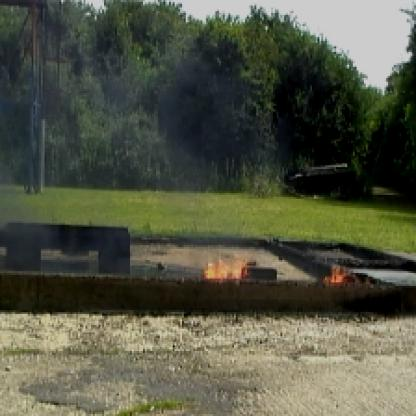Fire: (191, 245, 266, 282), (312, 258, 362, 288)
Smoke: (2, 2, 197, 284)
